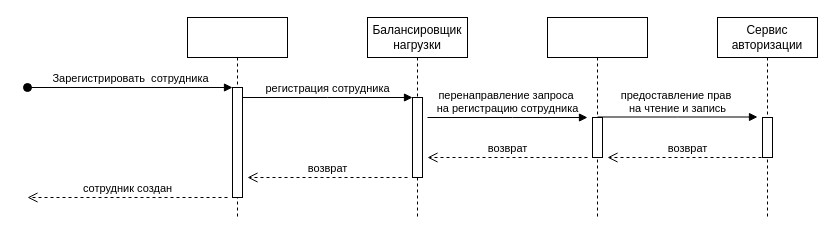
Image size: 835x235. Some labels were removed from this diagram. Here are the shapes that lost their labels. From the top down, the centre of each, then its label:
At pixel 237 117: "Портал расписаний".
At pixel 597 117: "Система пользователей".
